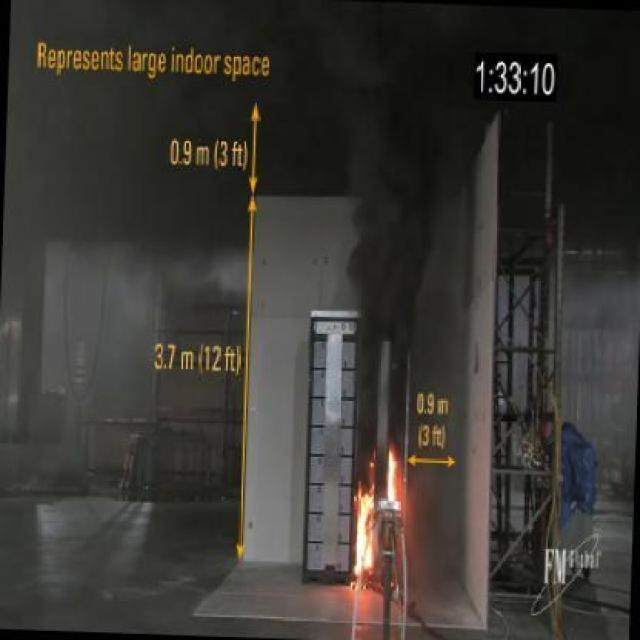fire: (336, 101, 449, 301)
smoke: (348, 449, 381, 589), (384, 448, 408, 554)
